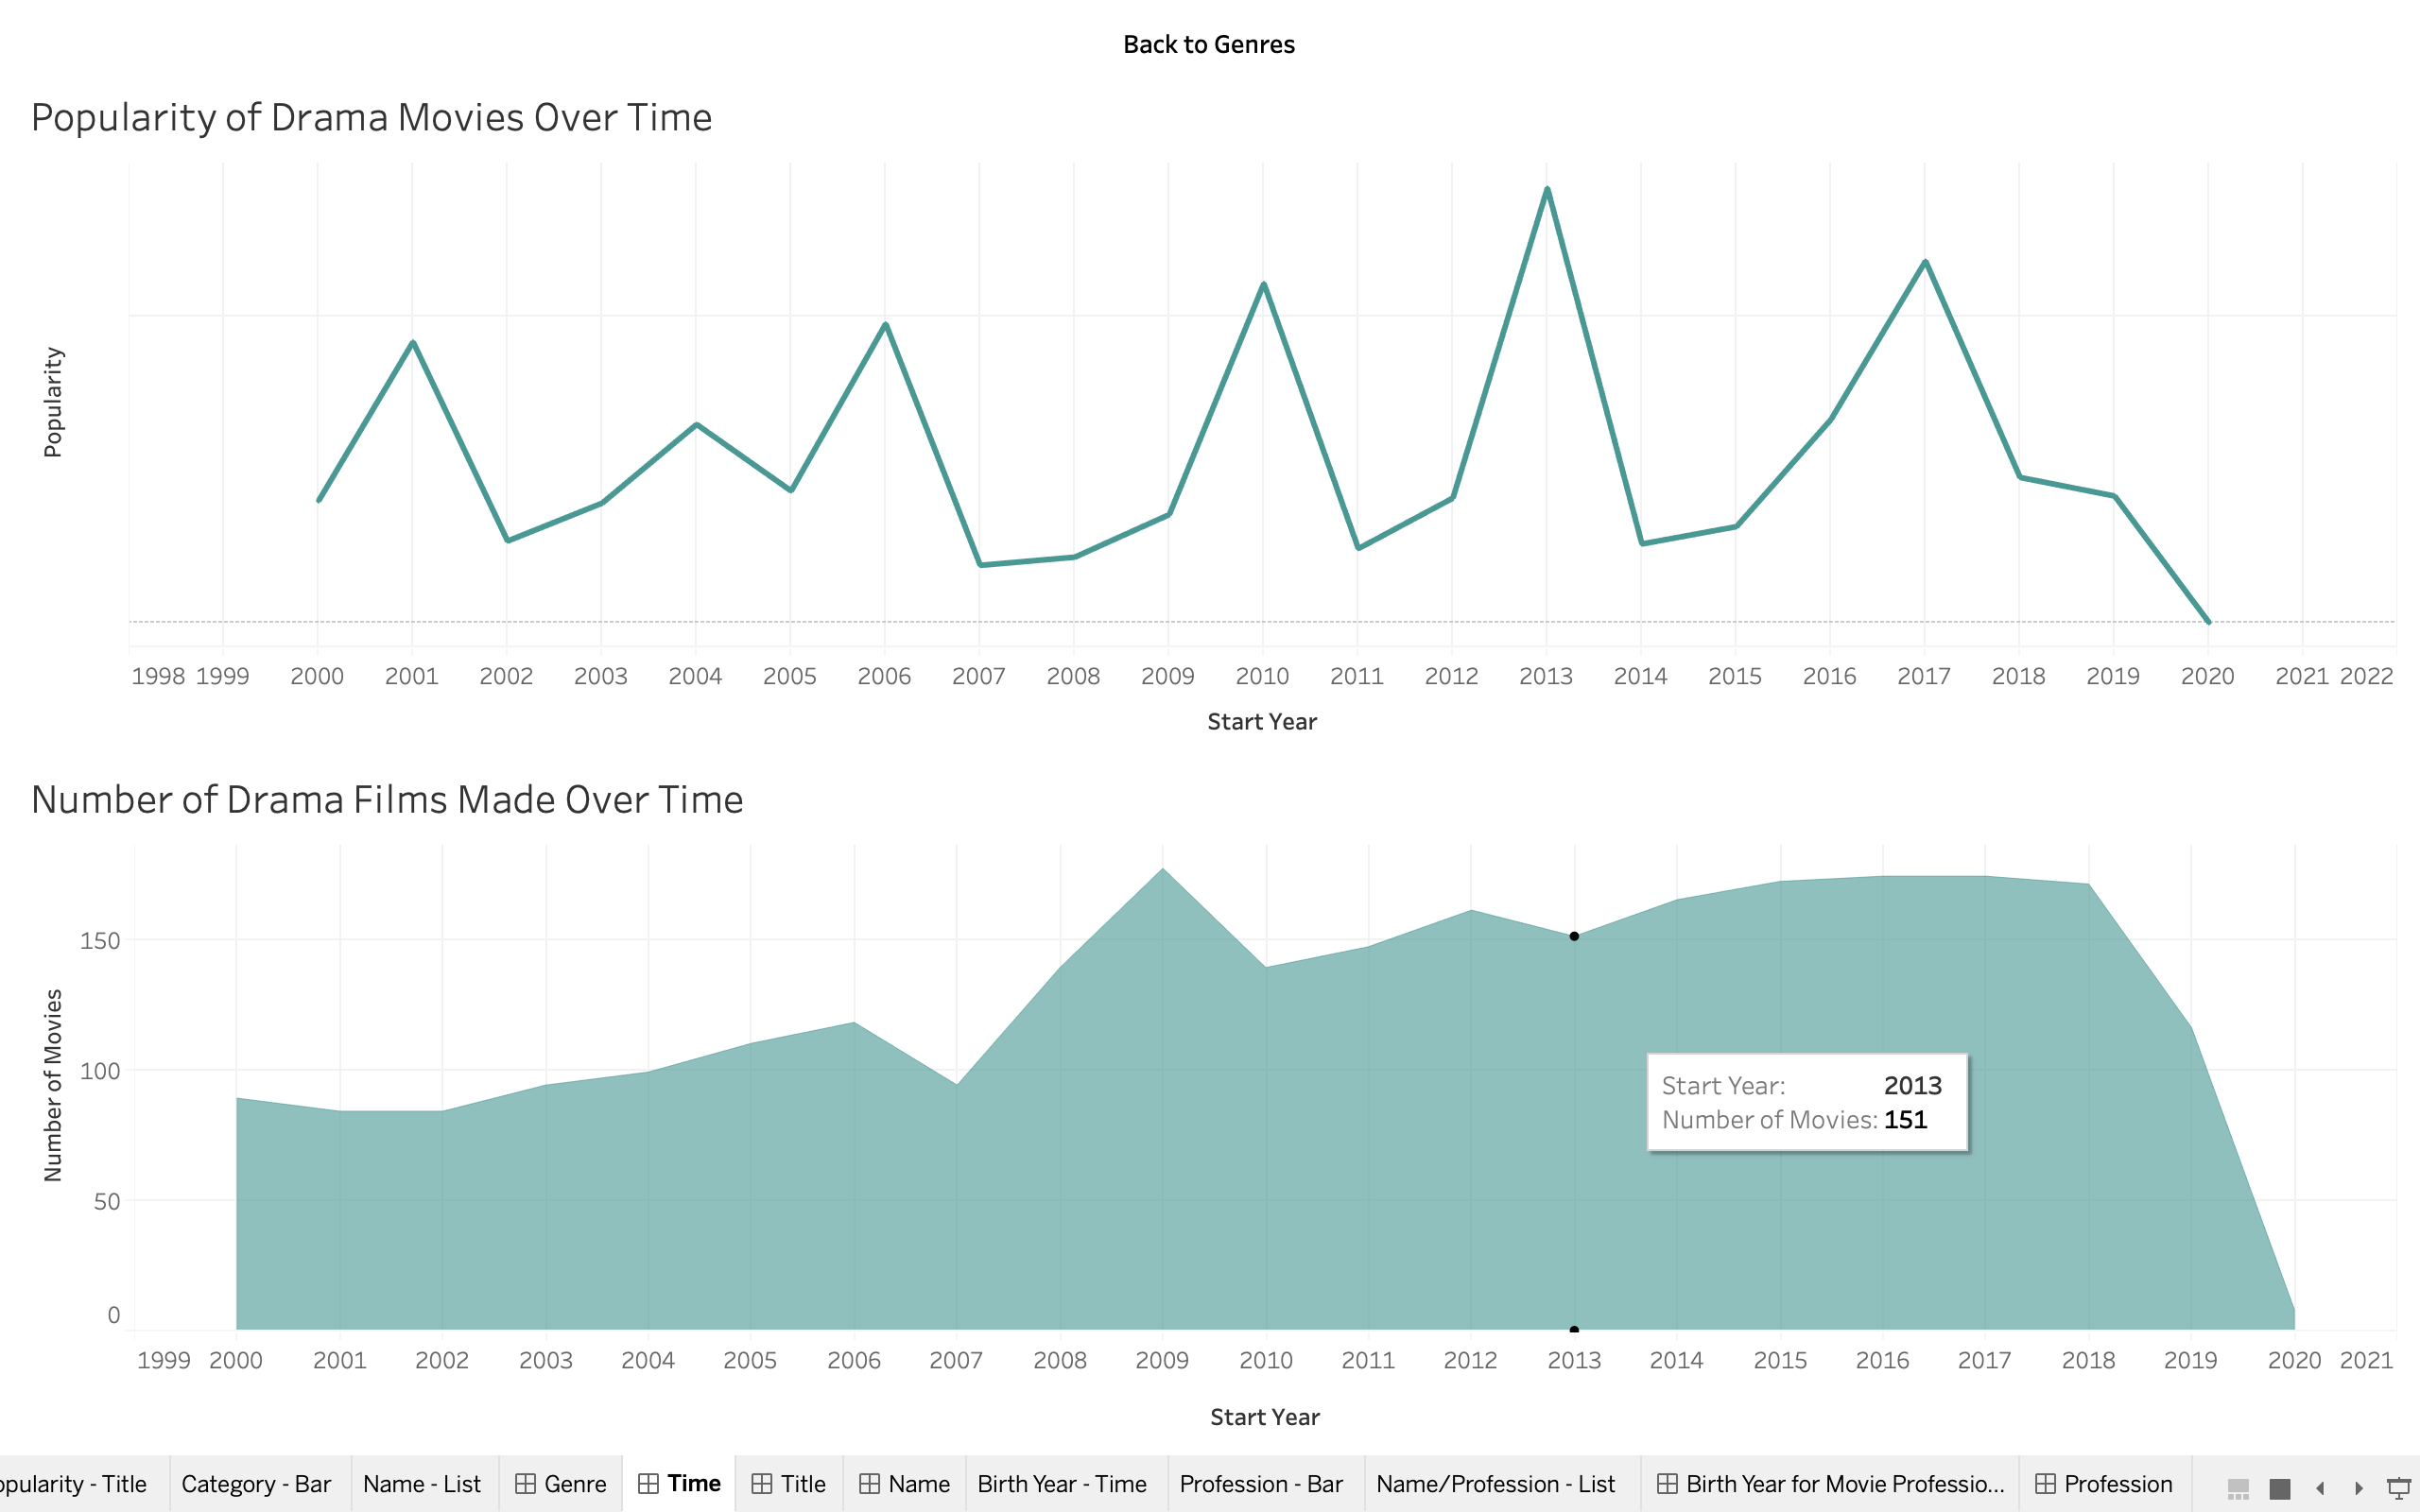

Layout of this report page (visuals, bound fields, positions):
{"tool":"tableau","page":{"name":"Time","canvas":[1000,1000],"units":"permille","ordinal":4},"visuals":[{"type":"dashboard-object","box":[6.2,10.4,987.5,39.7]},{"type":"worksheet","title":"Popularity - Time","mark":"Line","rows":["Calculation_95631183151927296"],"cols":["start_year"],"box":[6.2,50.1,987.5,469.5]},{"type":"worksheet","title":"Genres - Time","mark":"Area","rows":["title"],"cols":["start_year"],"box":[6.2,519.6,987.5,470]}]}

Visuals, with their boxes on the dashboard's canvas, which has no fixed pixel size, in thousandths of its width and height (x1, y1, x2, y2). These are canvas units, not pixel positions in the 2420x1512 screenshot, which may show the page scaled, cropped or inside an application window:
dashboard-object: {"left": 6, "top": 10, "right": 994, "bottom": 50}
"Popularity - Time" worksheet (Line marks): {"left": 6, "top": 50, "right": 994, "bottom": 520}
"Genres - Time" worksheet (Area marks): {"left": 6, "top": 520, "right": 994, "bottom": 990}
